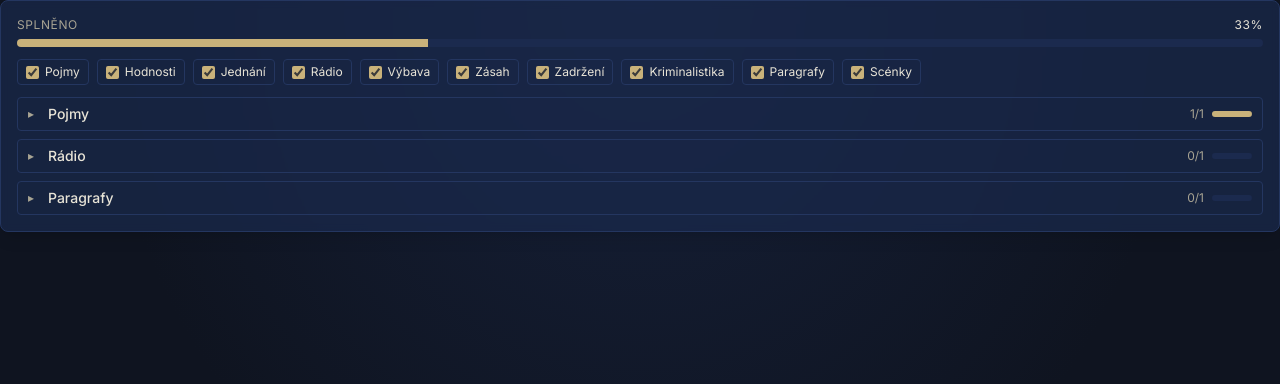
Test case: <LawSidePanel /> › clicking a group header expands it (chips appear)
The image size is (1280, 384).
Step 1. Click the button with test id "law-group-pojmy" → point(69, 114), box [17,97,1263,131]
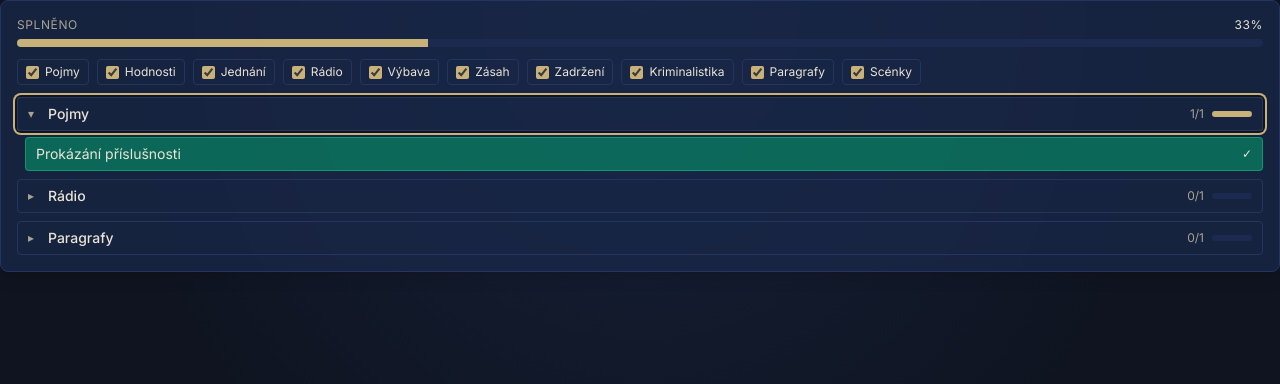
Check: the element with test id "chip-q1" is shown, box [25,137,1263,171]
